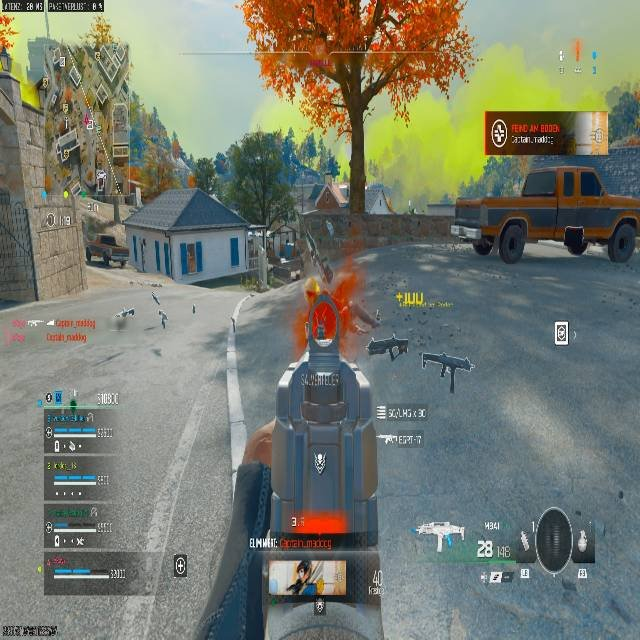player: (286, 560, 314, 595)
